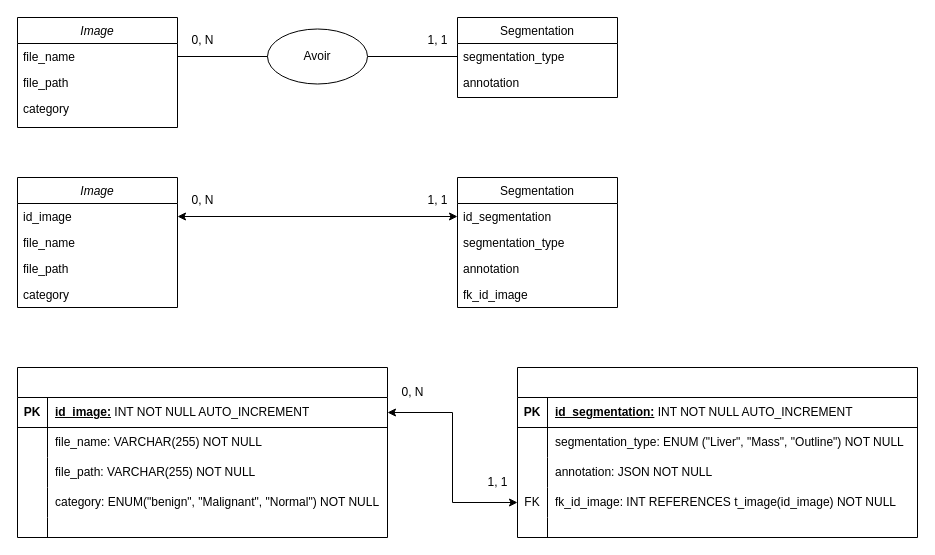
Image size: 935x555. Some labels were removed from this diagram. The shapes that lost their labels are listed below. From the top down, each one's box as (x1, y1, x2, y2) in pixels, then its label:
(16, 366, 388, 538): t_image
(516, 366, 918, 538): t_segmentation
